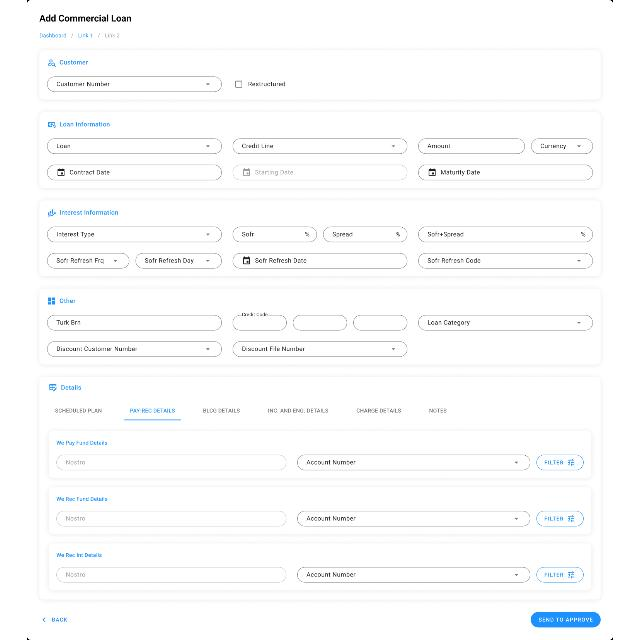QLabel: (36, 10, 134, 26), (56, 494, 108, 504), (59, 209, 120, 217), (55, 438, 109, 447), (538, 616, 594, 624), (56, 551, 104, 559), (267, 407, 329, 413), (60, 122, 110, 128), (54, 408, 102, 414), (129, 408, 175, 414), (356, 408, 402, 414), (203, 408, 241, 414), (248, 81, 286, 87), (61, 383, 84, 391), (50, 614, 68, 624), (60, 60, 88, 66), (58, 297, 78, 305), (544, 458, 564, 466), (544, 516, 566, 522), (544, 572, 564, 578), (430, 408, 448, 414)
VBreadcrumbs: (36, 32, 124, 40)
VBtn: (532, 612, 602, 628), (538, 510, 584, 528), (538, 455, 584, 471), (538, 568, 584, 582)
VCard: (39, 376, 600, 600), (39, 199, 602, 277), (40, 288, 602, 364), (38, 113, 602, 187), (39, 50, 602, 100), (48, 430, 592, 480), (48, 486, 592, 534), (48, 543, 592, 591)
VCheckbox: (235, 80, 243, 88)
VCombobox: (297, 454, 531, 472), (297, 566, 531, 584), (298, 510, 530, 528), (48, 340, 222, 358), (418, 314, 594, 331), (47, 138, 223, 154), (232, 138, 408, 154), (418, 253, 594, 269), (232, 341, 408, 357), (48, 76, 222, 92), (48, 226, 222, 242), (46, 252, 130, 270), (136, 252, 222, 268), (532, 138, 594, 154)
VIcon: (46, 382, 58, 393), (566, 570, 578, 580), (46, 58, 56, 68), (46, 208, 56, 218), (46, 296, 56, 306), (46, 120, 58, 128), (568, 514, 576, 524), (568, 458, 576, 467), (41, 616, 48, 624)
VInlineDatepicker: (232, 164, 408, 180), (418, 164, 594, 180), (48, 165, 222, 181), (234, 252, 408, 268)
VTabs: (45, 400, 598, 596)
VTextField: (56, 454, 286, 470), (56, 511, 286, 527), (57, 568, 287, 582), (418, 226, 594, 242), (48, 316, 222, 330), (419, 138, 525, 154), (324, 225, 408, 242), (232, 226, 318, 242), (233, 312, 287, 330), (294, 315, 348, 331), (354, 314, 408, 330)
